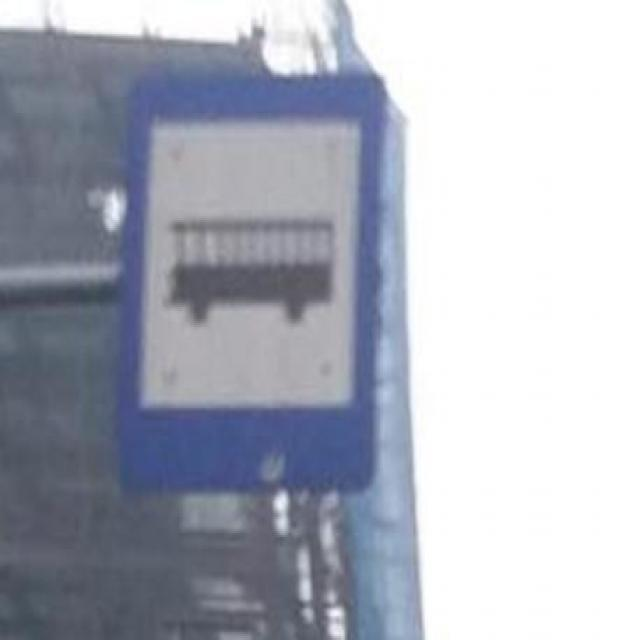traffic sign: (117, 65, 382, 499)
